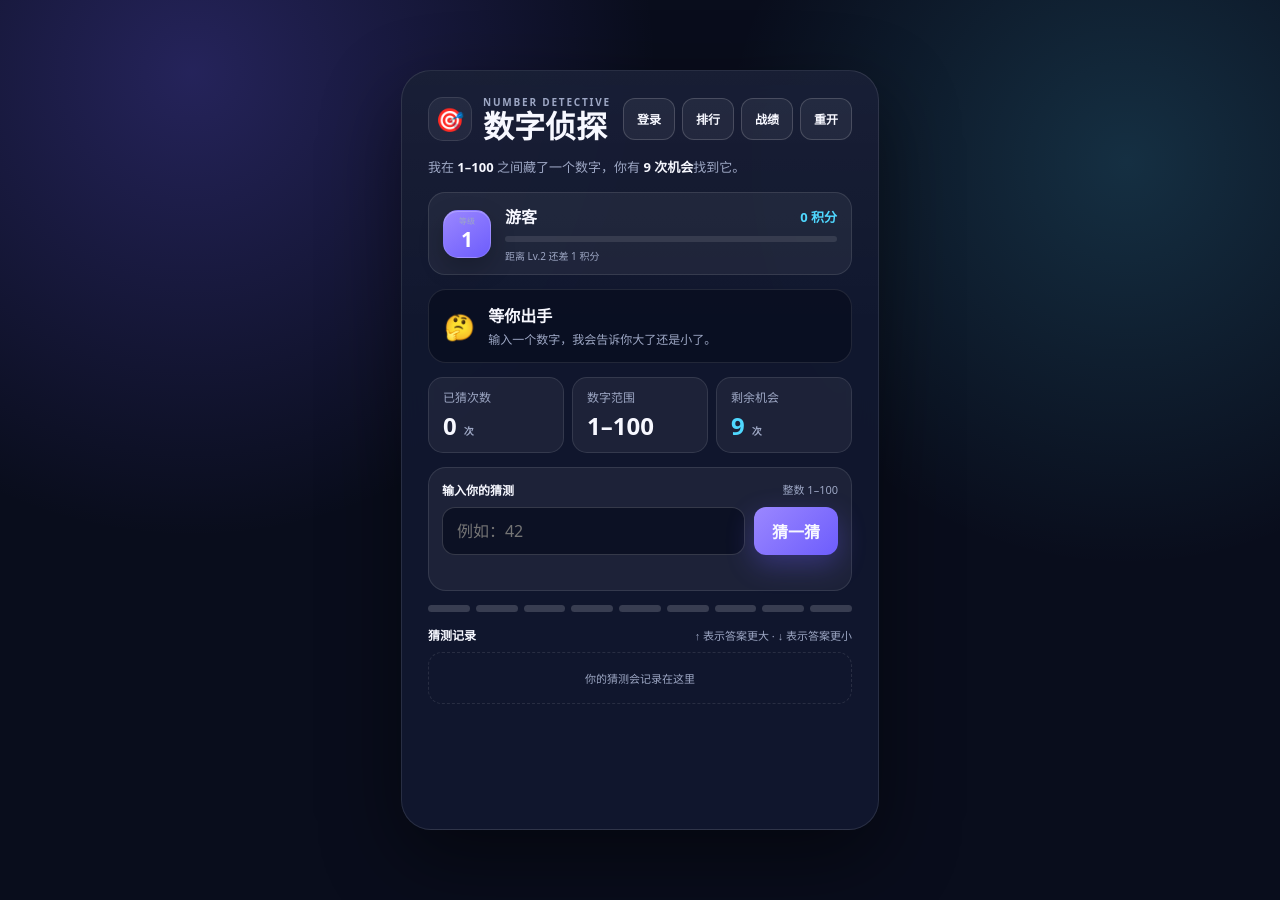
Scenario: GamePage › rejects invalid input 1.5
The image size is (1280, 900).
Type "1.5" into the field labelled "输入你的猜测" at (594, 531), box 442,507 -> 745,555
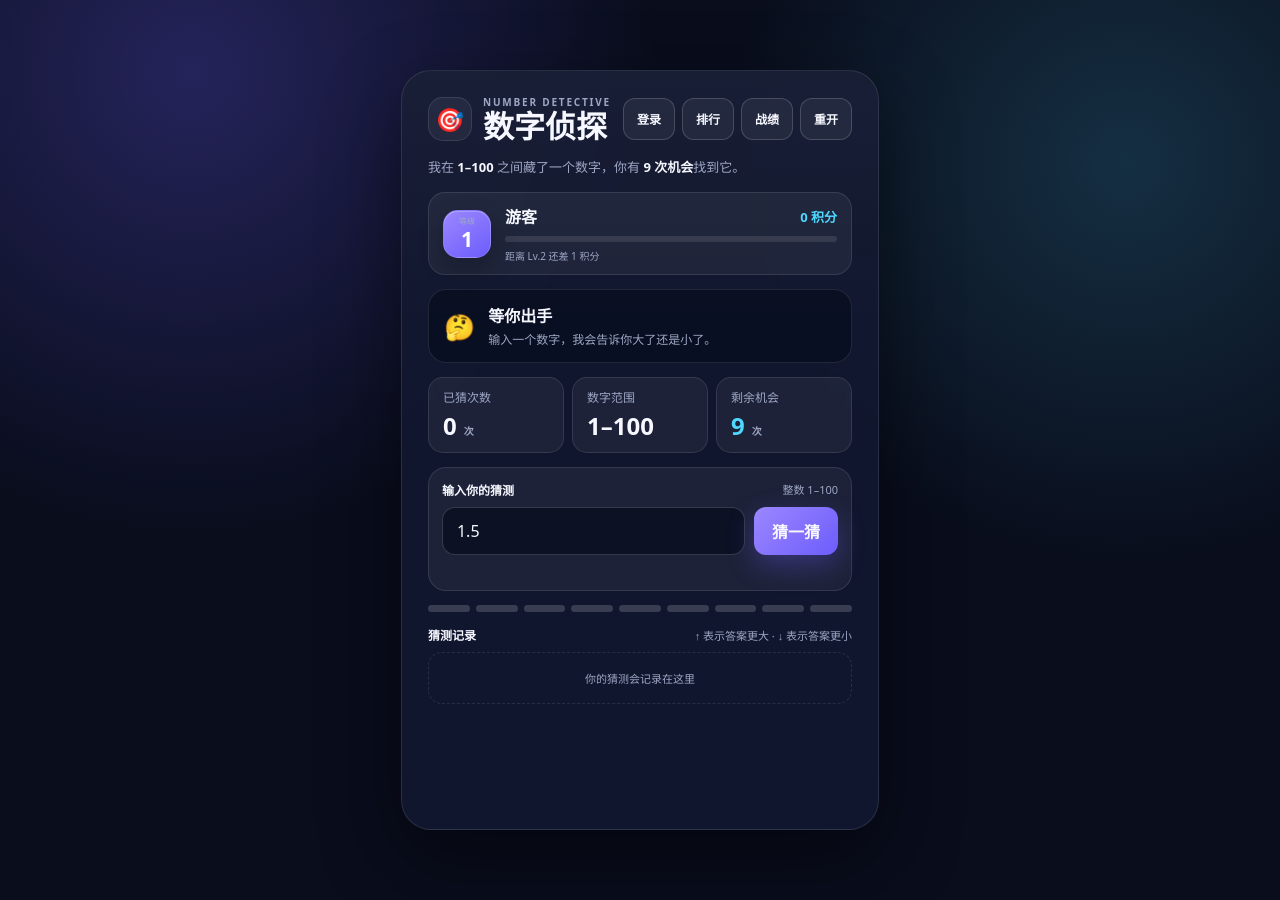
Click the button "猜一猜" at (796, 531), box 754,507 -> 838,555
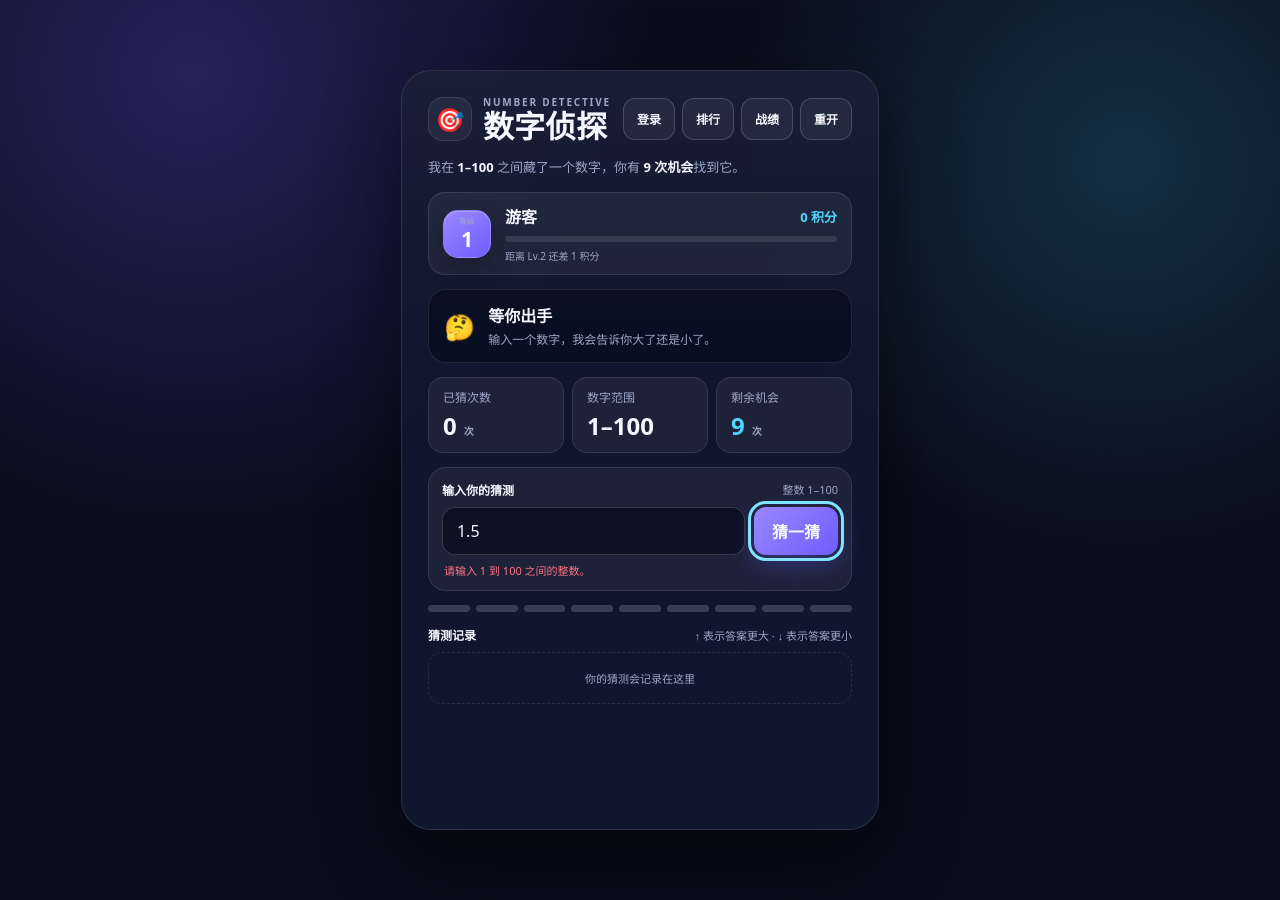
Now the message "请输入 1 到 100 之间的整数。" is shown, box 444,563 -> 591,578
